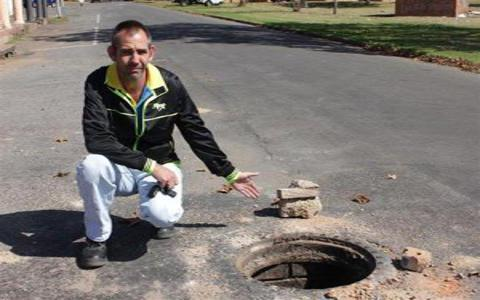open manhole: (219, 221, 381, 293)
